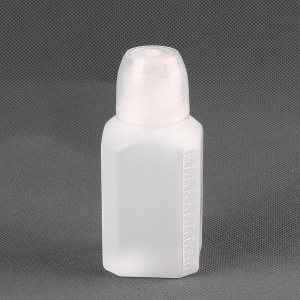emptybottle: (101, 45, 204, 277)
